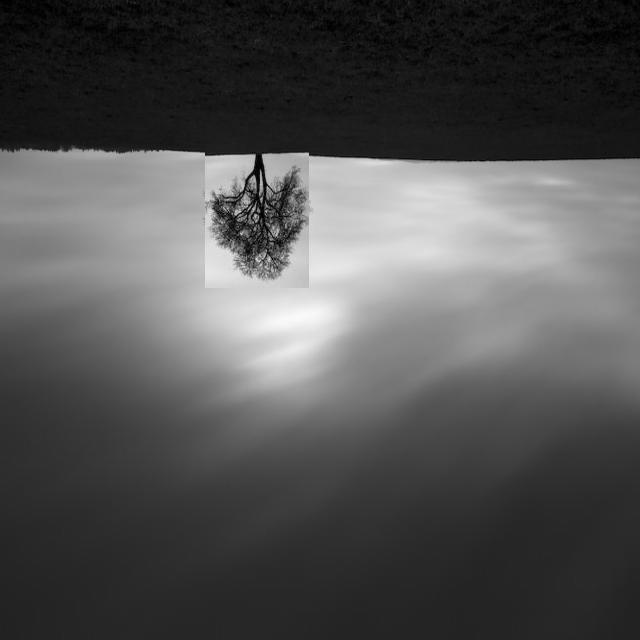tree: (205, 142, 309, 288)
